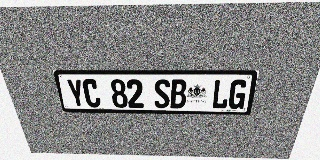2: (126, 79, 144, 108)
8: (110, 79, 128, 108)
B: (170, 79, 187, 108)
C: (81, 79, 101, 107)
G: (227, 79, 248, 109)
L: (211, 79, 231, 109)
S: (154, 79, 170, 108)
Y: (65, 79, 86, 107)
